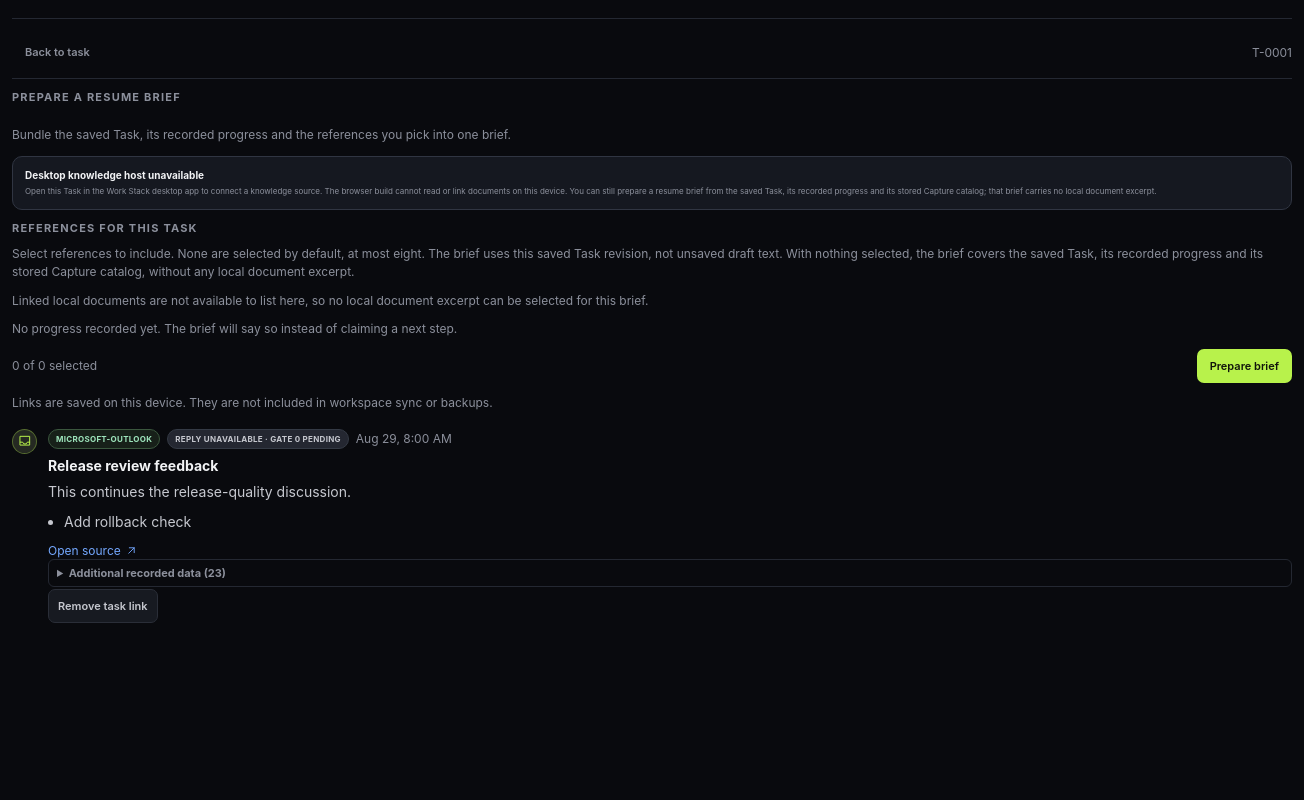
it: a confirmed removal offers Undo on the real subview composition
This screenshot has width=1304, height=800.
Click the button "Remove task link".
click(103, 606)  # box [48,589,158,623]
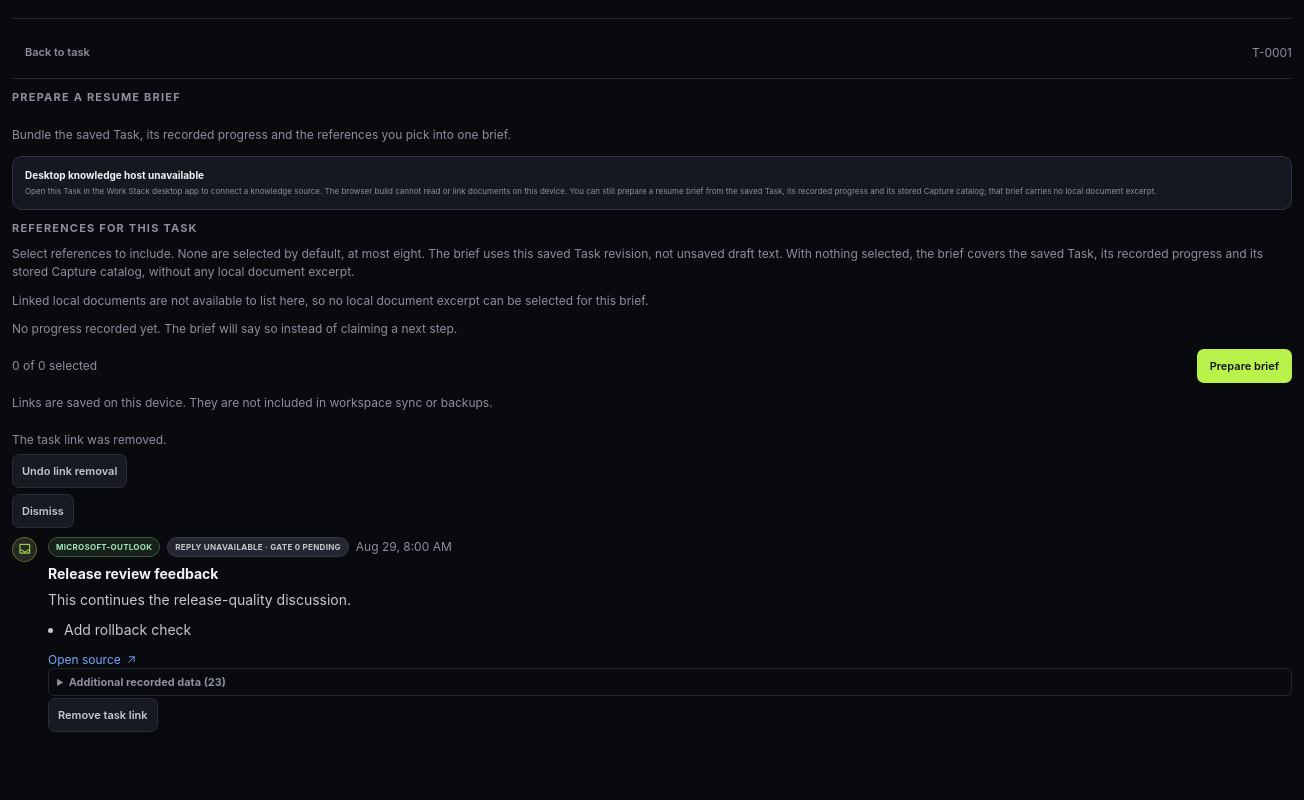
Expected: the button "Undo link removal" is shown, [12,454,127,488]
Expected: the element named "Removed task link" is shown, [12,432,166,528]
